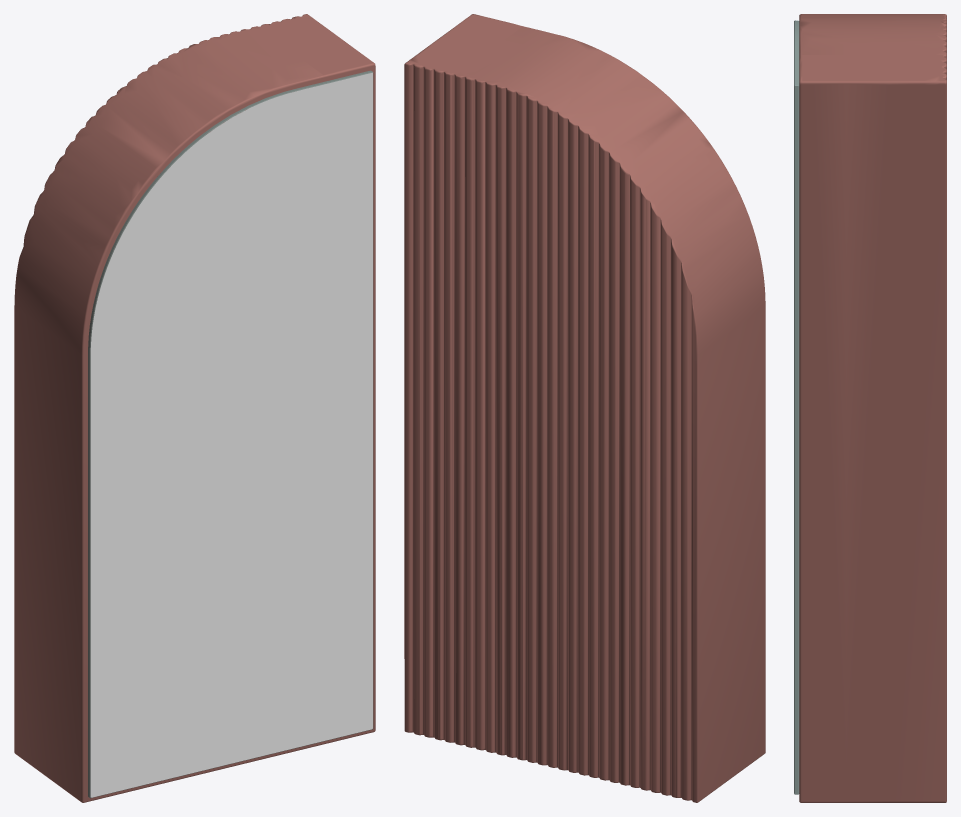
Rendered from designconnected-arceau-mirrors-9820.optimized.glb.
The picture shows the model from 3 angles, left to right: view 1: azimuth 30°, elevation 25°; view 2: azimuth 150°, elevation 25°; view 3: azimuth 270°, elevation 25°; orthographic projection. The views are drawn at different scales.
Visible parts, largest first — view 1: Ligne_Roset_Arceau_GM; view 2: Ligne_Roset_Arceau_GM; view 3: Ligne_Roset_Arceau_GM.
Boxes of the visible parts, x1=… form: Ligne_Roset_Arceau_GM: x1=14, y1=14, x2=375, y2=802; Ligne_Roset_Arceau_GM: x1=404, y1=14, x2=765, y2=802; Ligne_Roset_Arceau_GM: x1=794, y1=14, x2=946, y2=802.
Bounding box in the file's own units: 0.2849 × 0.621 × 0.119.
